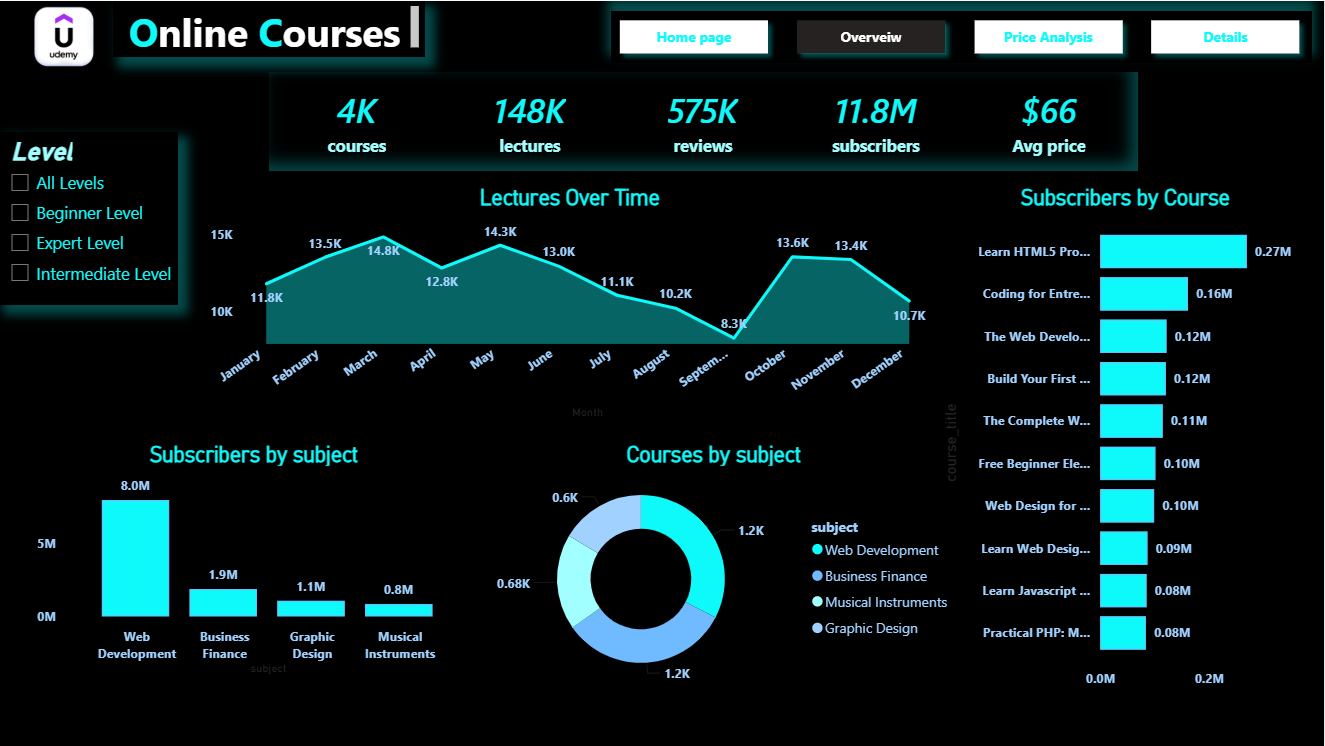

Layout of this report page (visuals, bound fields, positions):
{"tool":"powerbi","page":{"name":"Overveiw","canvas":[1280,720],"ordinal":1},"visuals":[{"type":"columnChart","title":"Subscribers by subject","fields":{"Category":["udemy.subject"],"Y":["Sum(udemy.num_subscribers)"]},"box":[32.9,424.3,428.6,230],"z":0},{"type":"areaChart","title":"Lectures Over Time","fields":{"Category":["udemy.published_timestamp.1.Variation.Date Hierarchy.Year","udemy.published_timestamp.1.Variation.Date Hierarchy.Quarter","udemy.published_timestamp.1.Variation.Date Hierarchy.Month","udemy.published_timestamp.1.Variation.Date Hierarchy.Day"],"Y":["Sum(udemy.num_lectures)"]},"box":[196.6,177.3,710.6,230.4],"z":1000},{"type":"donutChart","title":"Courses by subject","fields":{"Category":["udemy.subject"],"Y":["CountNonNull(udemy.course_title)"]},"box":[451.2,424.7,479,247.3],"z":2000},{"type":"cardVisual","fields":{"Data":["udemy.courses","udemy.lectures","udemy.reviews","udemy.subscribers","udemy.Avg price"]},"box":[261.8,68.8,838.5,95.3],"z":3000},{"type":"clusteredBarChart","title":"Subscribers by Course","fields":{"Y":["Sum(udemy.num_subscribers)"],"Category":["udemy.course_title"]},"box":[907.2,177.3,361.9,494.6],"z":4000},{"type":"slicer","fields":{"Values":["udemy.level"]},"box":[0,126.7,173.7,166.5],"z":5000},{"type":"pageNavigator","box":[591.4,10,677.1,50],"z":7000,"group":"g1"},{"type":"image","box":[6,0,115.8,68.8],"z":8000,"group":"g1"},{"type":"textbox","box":[111,0,300.4,54.3],"z":9000,"group":"g1"},{"type":"group","id":"g1","title":"Group 1","box":[6,0,1262.5,68.8],"z":9001}]}

Visuals, with their boxes in screenshot pixels (x1, y1, x2, y2), scaled from the page's 1280x720 canvas onto the 1325x746 screenshot:
"Subscribers by subject" columnChart: left=34, top=440, right=478, bottom=678
"Lectures Over Time" areaChart: left=204, top=184, right=939, bottom=422
"Courses by subject" donutChart: left=467, top=440, right=963, bottom=696
cardVisual - udemy.courses x udemy.lectures: left=271, top=71, right=1139, bottom=170
"Subscribers by Course" clusteredBarChart: left=939, top=184, right=1314, bottom=696
slicer - udemy.level: left=0, top=131, right=180, bottom=304
pageNavigator: left=612, top=10, right=1313, bottom=62
image: left=6, top=0, right=126, bottom=71
textbox: left=115, top=0, right=426, bottom=56
"Group 1" group: left=6, top=0, right=1313, bottom=71
